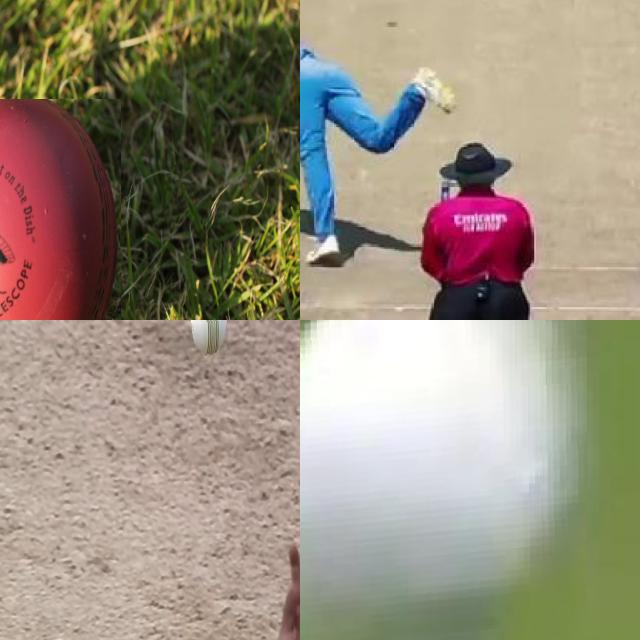Cricket ball: (300, 320, 587, 640), (0, 99, 120, 320), (190, 320, 227, 359)
